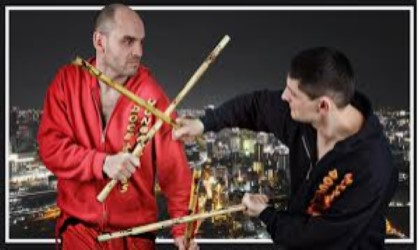baston_e: (108, 43, 230, 187), (86, 55, 178, 131), (115, 198, 261, 238)
baston_v: (277, 189, 295, 209), (217, 27, 234, 48), (91, 187, 108, 205), (68, 49, 81, 69), (91, 230, 108, 245), (196, 133, 208, 150)
